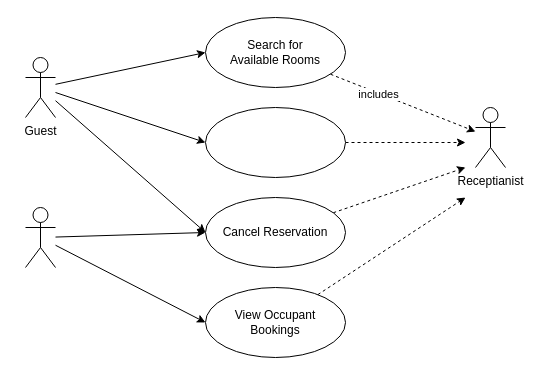
Image size: 541x375. Some labels were removed from this diagram. Here are the shapes that lost their labels. From the top down, the centre of each, then its label:
At (x=275, y=142): "Book Room".
At (x=40, y=237): "Manager".
